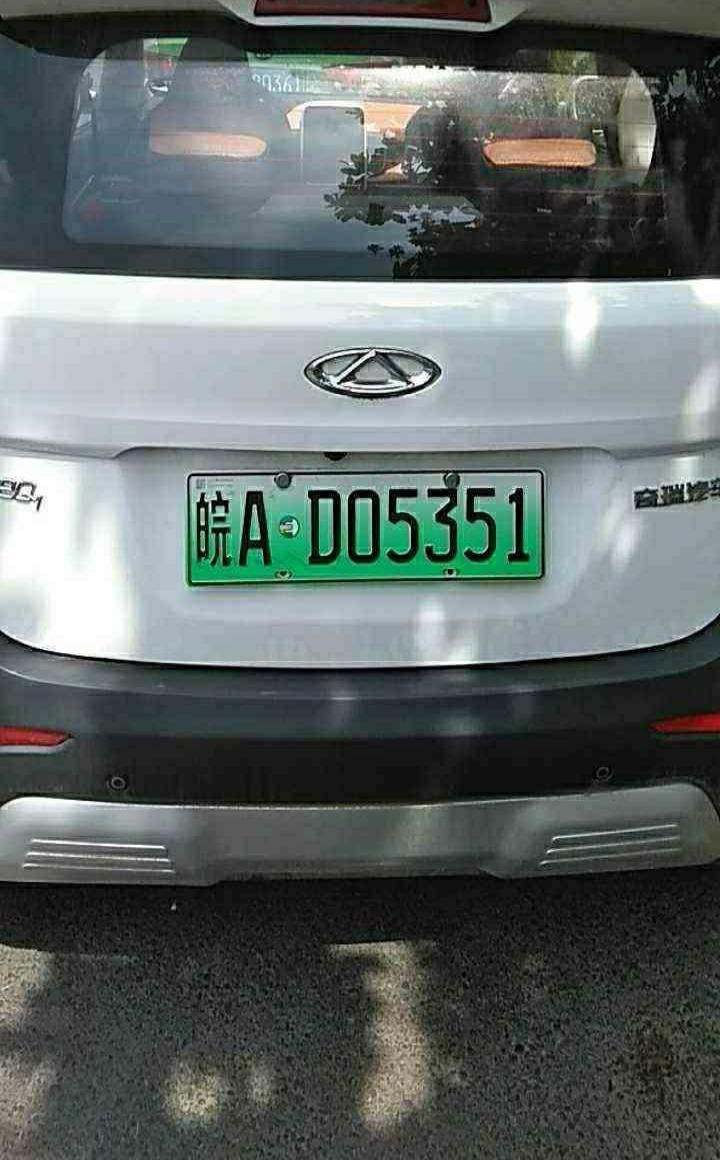car_id: (194, 471, 543, 584)
